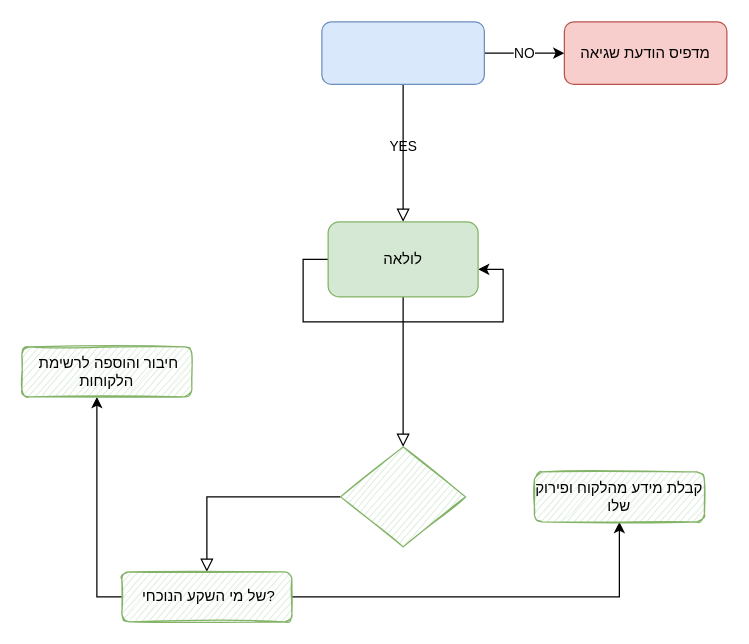
Image size: 749x644. Some labels were removed from this diagram. Each missing label, with the centre of its shape:
מעבר על השקעים הרקיעים: (x=402, y=496)
קשירת השקע לכתובת השקע המקומית והאזנה לחיבורים נכנסים: (x=402, y=52)
